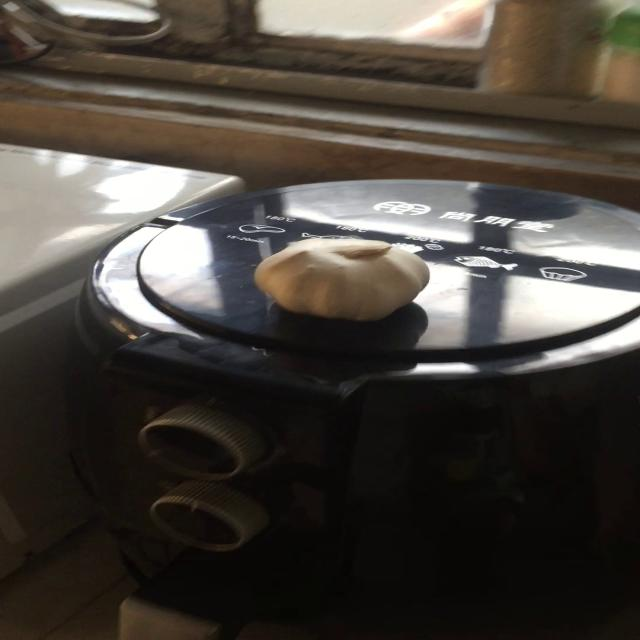garlic: (249, 231, 436, 326)
